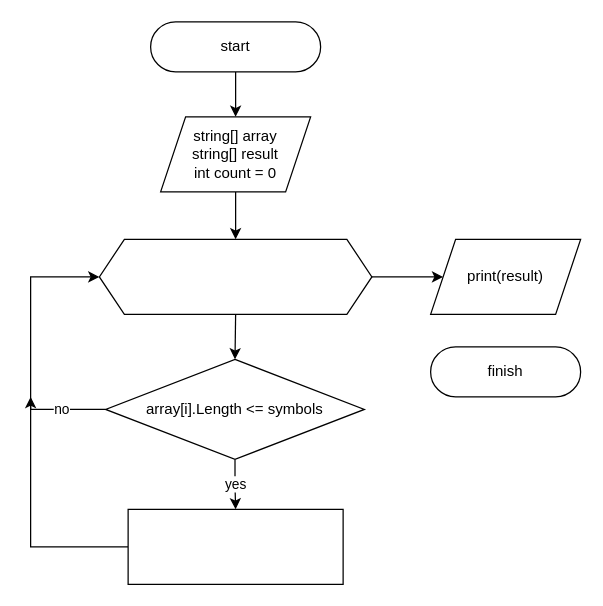
The diagram is 603 pixels wide and 606 high, and some of its shapes have lost their labels. The centre of each missing label's shape, as x and y in pixels:
for (int i = 0; i < array.Length; i++): the point at 235,276
result(count) = array(i) count ++: the point at 235,546
